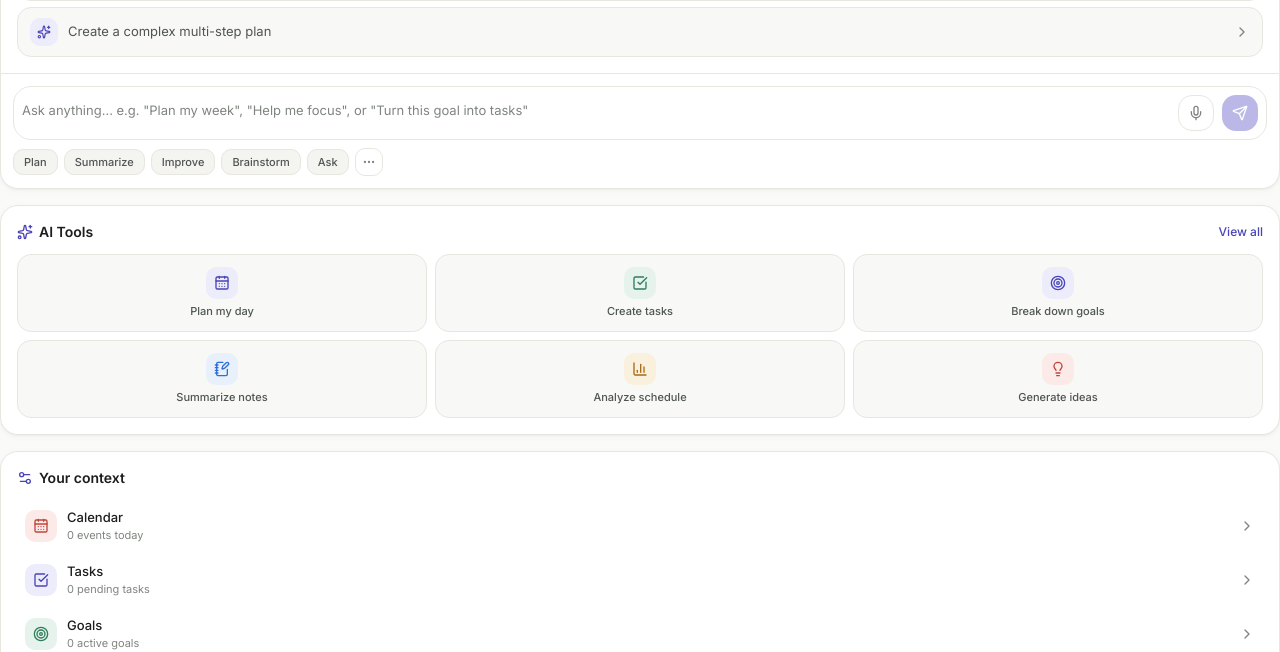
it: ai tools › runs the plan tool
(page scrolled)
Click the button with test id "ai-tool-plan-day". click: x=222, y=293
box: 17,254 -> 427,332
(page scrolled)
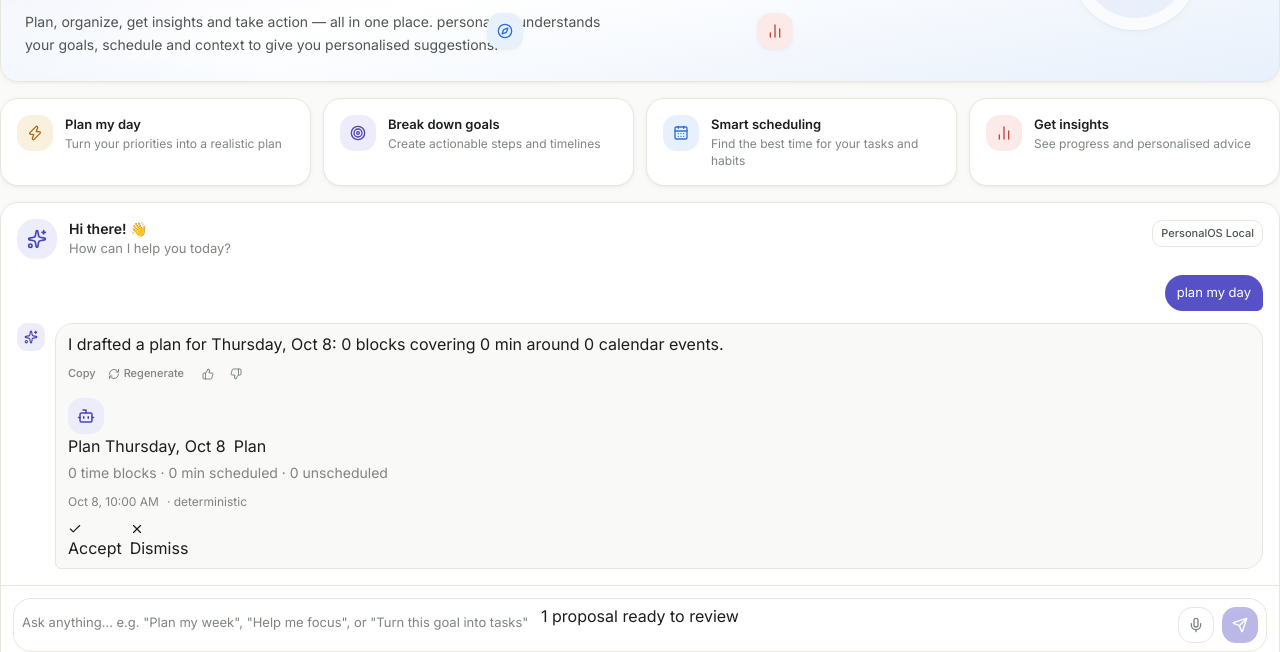
Expected: the text with test id "ai-user-message" reads "plan my day", 1177,284 -> 1251,300
